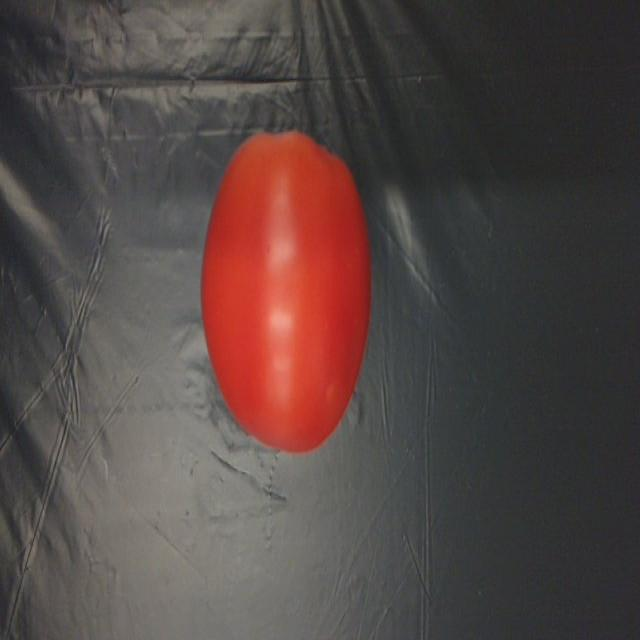kirmizi: (180, 93, 369, 456)
